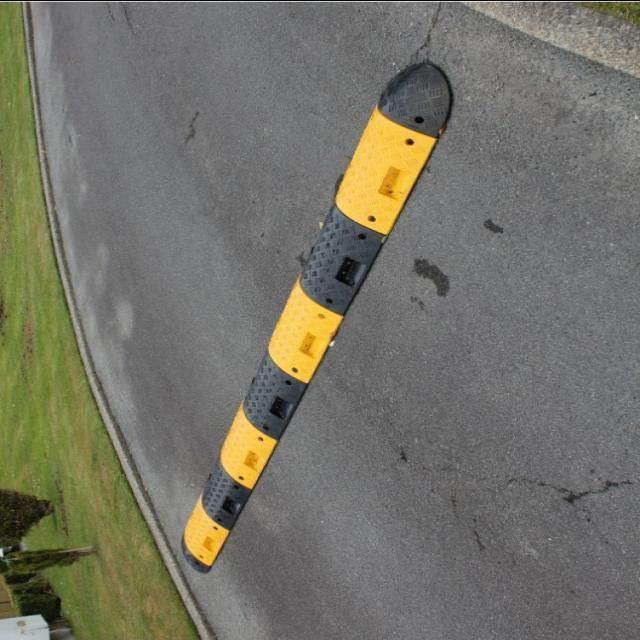speedbreaker: (177, 61, 455, 573)
